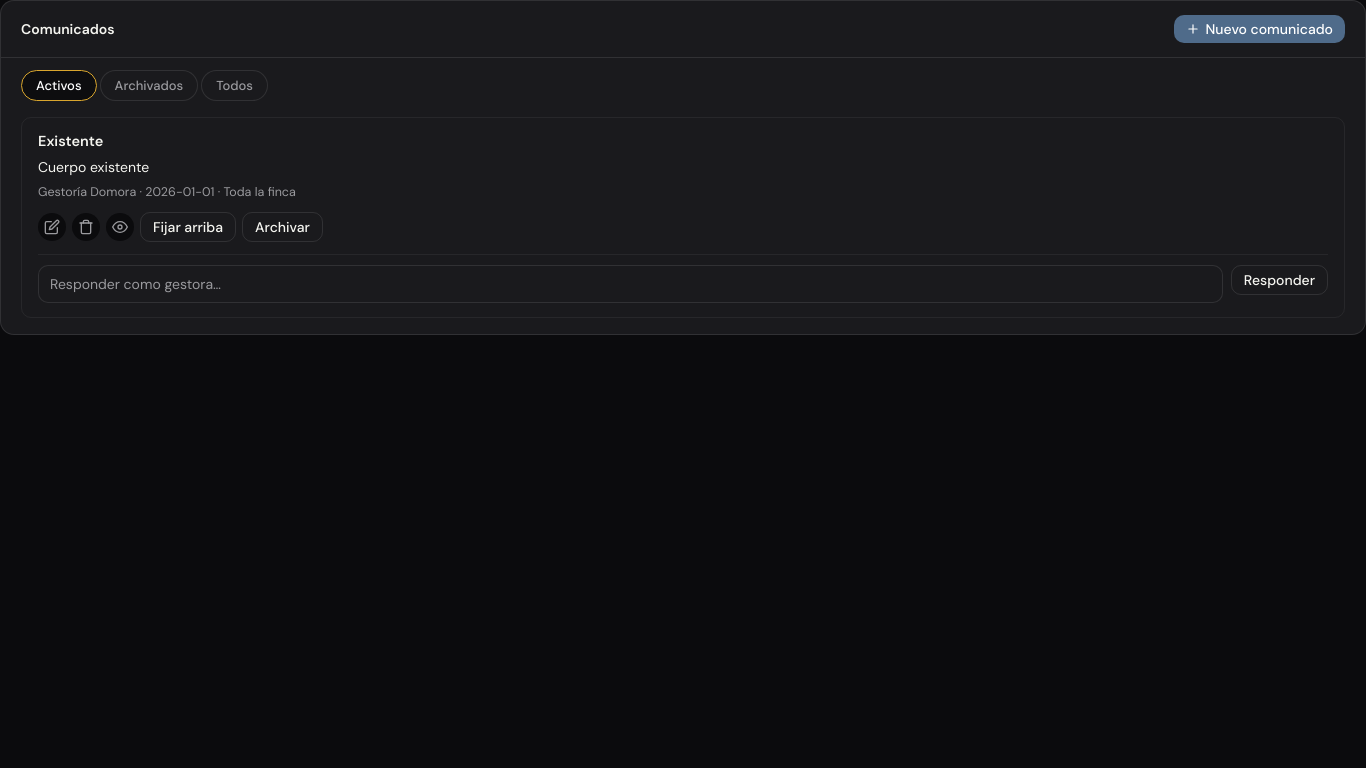
Test: ComunicadosTabComponent › alta y edición › con título y cuerpo, crea el comunicado y recarga la primera página
The width and height of the screenshot is (1366, 768).
Click the button "Nuevo comunicado".
click(1259, 29)  # box [1174,15,1345,43]
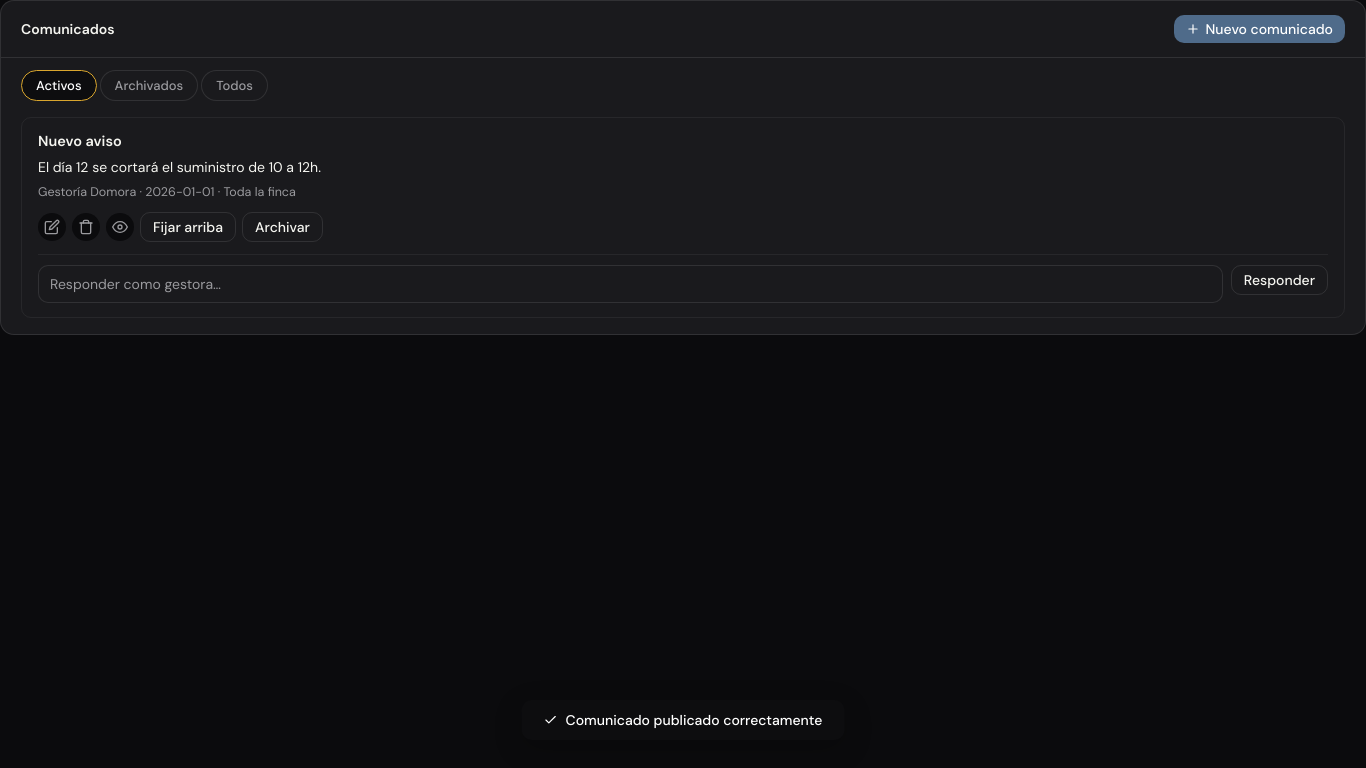
Check: the text "Comunicado publicado correctamente" is shown, box [522,700,844,740]
